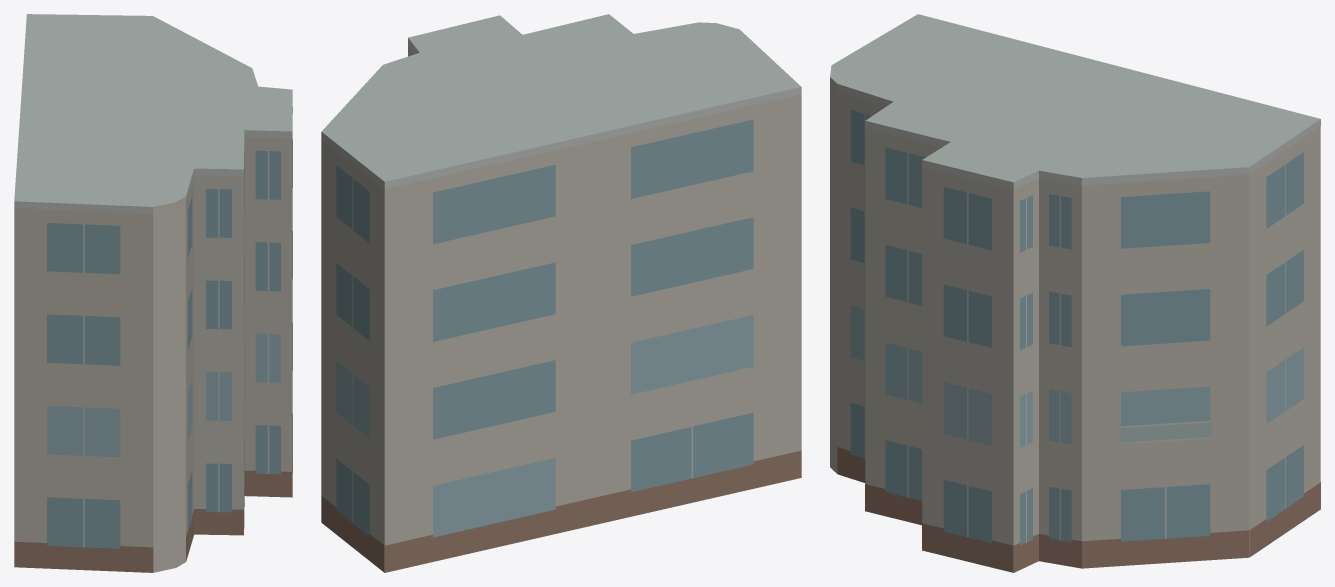
The model's file is survey-upis-32676357.glb.
The picture shows the model from 3 angles, left to right: view 1: azimuth 30°, elevation 25°; view 2: azimuth 150°, elevation 25°; view 3: azimuth 270°, elevation 25°; orthographic projection. The views are drawn at different scales.
Visible parts, largest first — view 1: survey-upis-32676357.tmp; view 2: survey-upis-32676357.tmp; view 3: survey-upis-32676357.tmp.
Part boxes in pixels (x1,y1,x2,y2): survey-upis-32676357.tmp: (14,14,292,572); survey-upis-32676357.tmp: (321,14,801,572); survey-upis-32676357.tmp: (830,14,1320,572).
Bounding box in the file's own units: 11.85 × 12.8 × 14.58.
